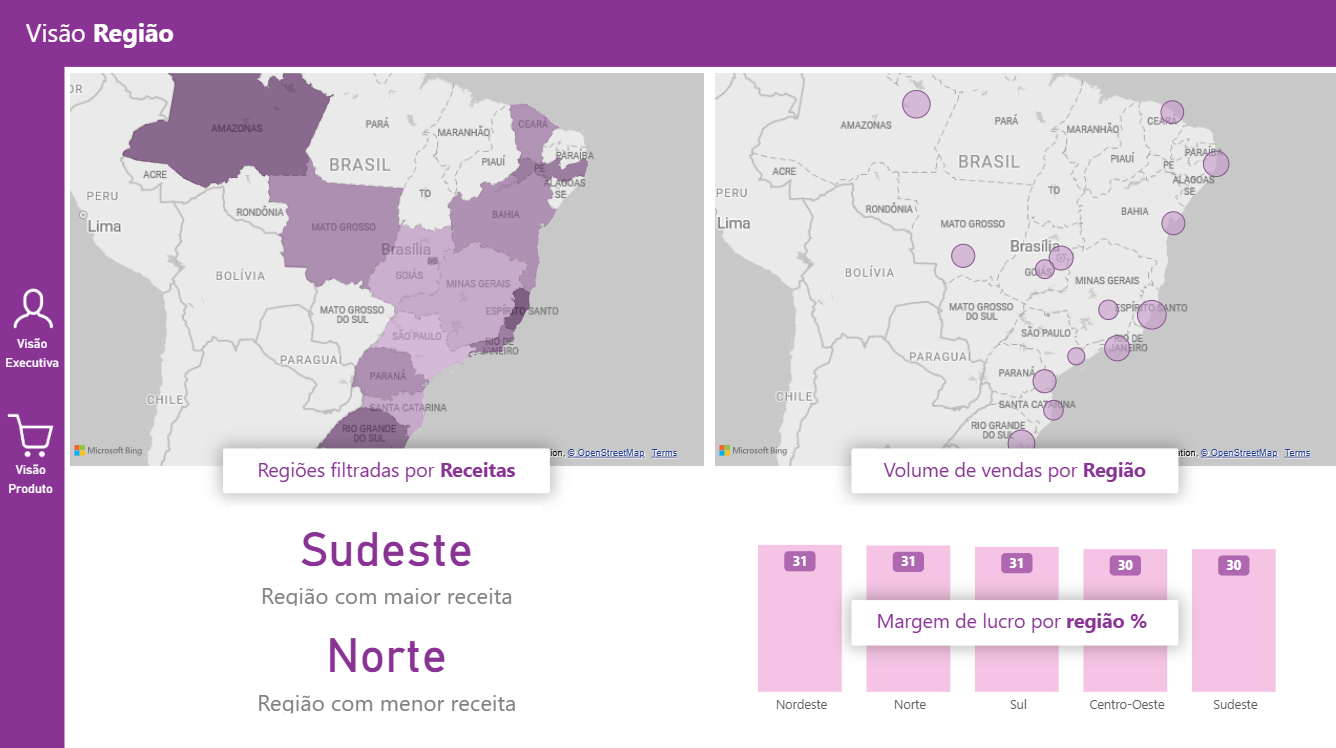

Layout of this report page (visuals, bound fields, positions):
{"tool":"powerbi","page":{"name":"Visão Região","canvas":[1280,720],"ordinal":2},"visuals":[{"type":"shape","box":[0,0,1280,63.7],"z":0,"group":"g1"},{"type":"shape","box":[0,56.7,63.3,663.3],"z":0},{"type":"filledMap","fields":{"Category":["Dim_Cliente.Estado"]},"box":[62.9,64.3,614.3,384.3],"z":0,"group":"g2"},{"type":"map","fields":{"Category":["Dim_Cliente.Estado"],"Size":["Medidas.receitaTotal"]},"box":[677.1,64.3,602.9,384.3],"z":0,"group":"g3"},{"type":"textbox","box":[0,430.9,62.1,57.1],"z":0,"group":"g6"},{"type":"columnChart","fields":{"Category":["Dim_Cliente.Regiao"],"Y":["Medidas.margemLucro"]},"box":[677.1,481.4,588.6,207.1],"z":0,"group":"g4"},{"type":"group","id":"g1","title":"Grupo 1","box":[0,0,1280,63.7],"z":1000},{"type":"textbox","box":[21.4,8.3,196.7,48.5],"z":1000,"group":"g1"},{"type":"textbox","box":[0.7,311.5,62.1,57.1],"z":1000,"group":"g5"},{"type":"textbox","box":[214.3,427.2,311.4,42.9],"z":1000,"group":"g2"},{"type":"textbox","box":[812.8,427.2,311.4,42.9],"z":1000,"group":"g3"},{"type":"textbox","box":[813,572,311,43],"z":1000,"group":"g4"},{"type":"image","box":[0,381.4,62.9,67.1],"z":1500,"group":"g6"},{"type":"group","id":"g2","title":"Grupo 2","box":[62.9,64.3,614.3,405.7],"z":2000},{"type":"image","box":[4.3,260.5,58.6,65.7],"z":2000,"group":"g5"},{"type":"group","id":"g3","title":"Grupo 3","box":[677.1,64.3,602.9,405.7],"z":3000},{"type":"card","fields":{"Values":["Labels.Região com maior receita"]},"box":[221.4,481.4,297.1,100],"z":4000},{"type":"card","fields":{"Values":["Labels.Região com maior lucro"]},"box":[221.4,581.4,297.1,102.9],"z":5000},{"type":"group","id":"g4","title":"Grupo 4","box":[677.1,481.4,588.6,207.1],"z":6000},{"type":"group","id":"g5","title":"Grupo 3","box":[0,258.3,62.9,110.3],"z":7000},{"type":"group","id":"g6","title":"Grupo 3","box":[0,368.3,63.3,119.8],"z":8000}]}

Visuals, with their boxes on the page's 1280x720 design canvas (x1, y1, x2, y2). These are canvas units, not pixel positions in the 1336x748 screenshot, which may show the page scaled, cropped or inside an application window:
shape: [left=0, top=0, right=1280, bottom=64]
shape: [left=0, top=57, right=63, bottom=720]
filledMap - Dim_Cliente.Estado: [left=63, top=64, right=677, bottom=449]
map - Dim_Cliente.Estado x Medidas.receitaTotal: [left=677, top=64, right=1280, bottom=449]
textbox: [left=0, top=431, right=62, bottom=488]
columnChart - Dim_Cliente.Regiao x Medidas.margemLucro: [left=677, top=481, right=1266, bottom=688]
"Grupo 1" group: [left=0, top=0, right=1280, bottom=64]
textbox: [left=21, top=8, right=218, bottom=57]
textbox: [left=1, top=312, right=63, bottom=369]
textbox: [left=214, top=427, right=526, bottom=470]
textbox: [left=813, top=427, right=1124, bottom=470]
textbox: [left=813, top=572, right=1124, bottom=615]
image: [left=0, top=381, right=63, bottom=448]
"Grupo 2" group: [left=63, top=64, right=677, bottom=470]
image: [left=4, top=260, right=63, bottom=326]
"Grupo 3" group: [left=677, top=64, right=1280, bottom=470]
card - Labels.Região com maior receita: [left=221, top=481, right=518, bottom=581]
card - Labels.Região com maior lucro: [left=221, top=581, right=518, bottom=684]
"Grupo 4" group: [left=677, top=481, right=1266, bottom=688]
"Grupo 3" group: [left=0, top=258, right=63, bottom=369]
"Grupo 3" group: [left=0, top=368, right=63, bottom=488]
